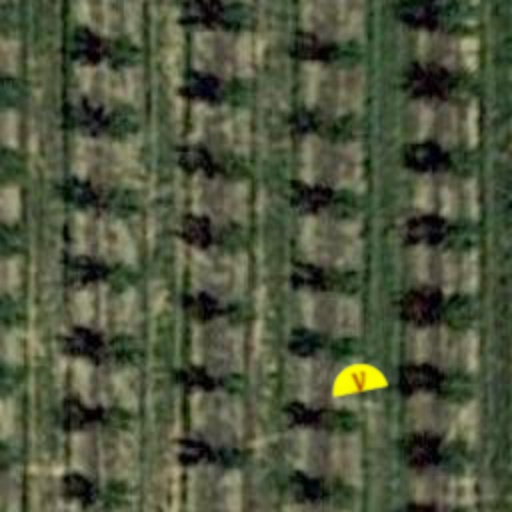semicircle: (324, 344, 392, 412)
